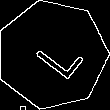L_NW: (22, 27, 82, 83)
